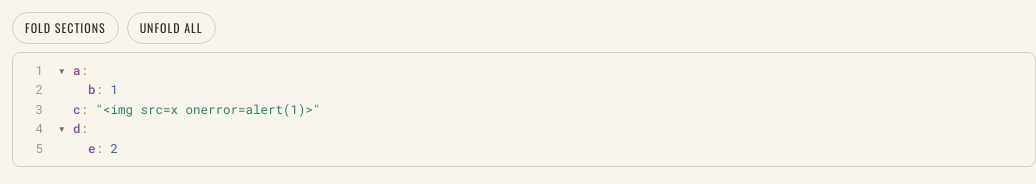
Test: YamlView › Fold sections folds every top-level block; the text of a value is escaped, never HTML
Click the button with test id "yaml-fold-top".
click(65, 28)  # box [12,12,119,44]
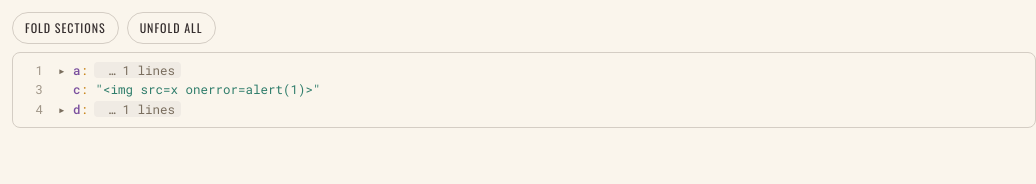
Now the number of elements with class "yaml-line" is 3, box [36,61,181,80]; [36,81,321,97]; [36,100,181,119]
